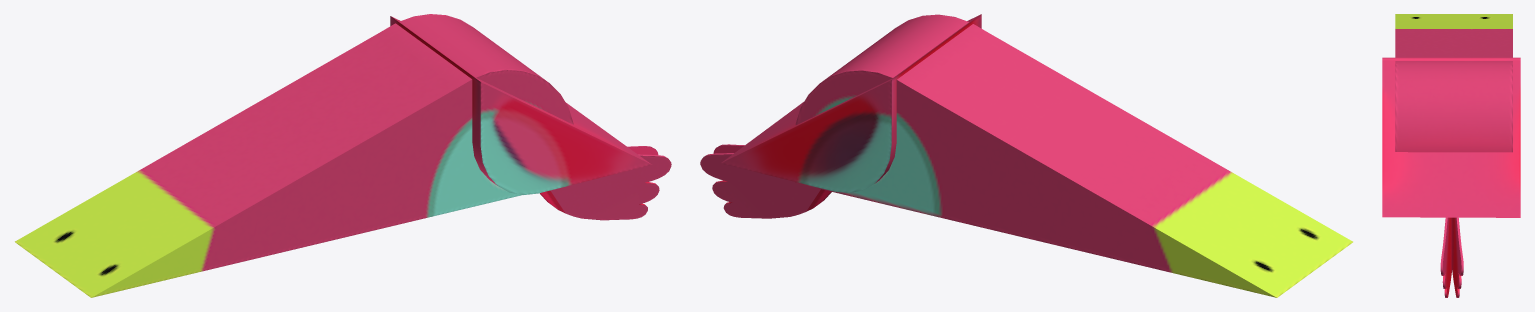
Rendered from rampbird_fbx.fbx.
The picture shows the model from 3 angles, left to right: view 1: azimuth 30°, elevation 25°; view 2: azimuth 150°, elevation 25°; view 3: azimuth 270°, elevation 25°; orthographic projection. The views are drawn at different scales.
Parts seen in each view (by area): view 1: rampbird_head, rampbird_body, rampbird_wing_r; view 2: rampbird_head, rampbird_body, rampbird_wing_l, rampbird_wing_r; view 3: rampbird_head, rampbird_body, rampbird_wing_r, rampbird_wing_l.
Part boxes in pixels (box(x1,y1,x2,y2)): rampbird_head: box(15, 14, 573, 297); rampbird_body: box(390, 16, 651, 194); rampbird_wing_r: box(541, 154, 671, 220); rampbird_head: box(795, 14, 1352, 297); rampbird_body: box(721, 14, 981, 192); rampbird_wing_l: box(700, 153, 830, 218); rampbird_wing_r: box(713, 144, 831, 211); rampbird_head: box(1395, 14, 1512, 152); rampbird_body: box(1382, 57, 1520, 217); rampbird_wing_r: box(1440, 217, 1452, 297); rampbird_wing_l: box(1452, 217, 1463, 297).
Size of the model in its own units: 138 by 46.52 by 35.39.
